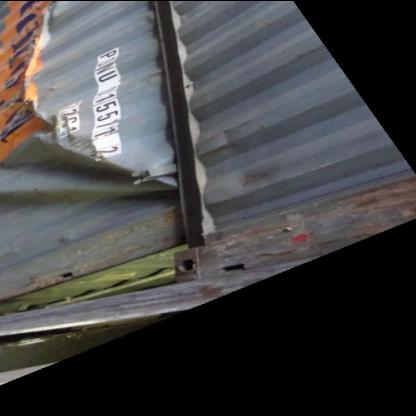Damage: (17, 1, 65, 163), (80, 141, 178, 202)
